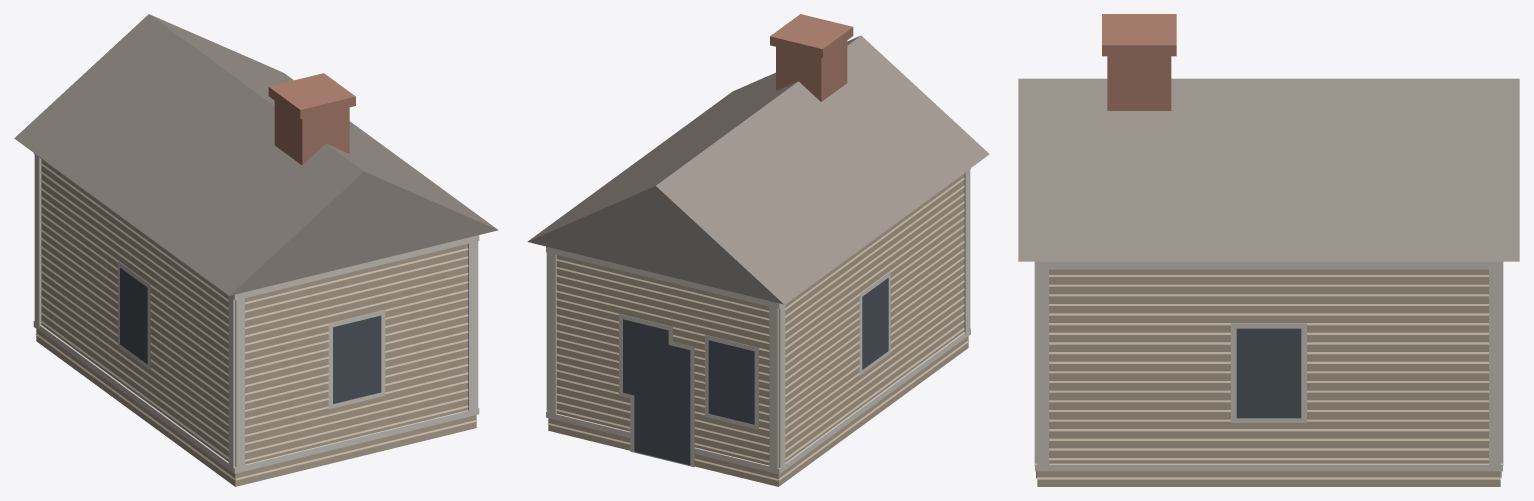
File: inf_barber_shop__inferred_1835.glb
3 renders of one model, left to right at view 1: azimuth 30°, elevation 25°; view 2: azimuth 150°, elevation 25°; view 3: azimuth 270°, elevation 25°, orthographic. The views are drawn at different scales.
Visible parts, largest first — view 1: inf_barber_shop__inferred_1835; view 2: inf_barber_shop__inferred_1835; view 3: inf_barber_shop__inferred_1835.
Boxes of the visible parts, <box> form: inf_barber_shop__inferred_1835: <box>14,14,498,486</box>; inf_barber_shop__inferred_1835: <box>527,14,989,486</box>; inf_barber_shop__inferred_1835: <box>1018,14,1519,486</box>.
Bounding box in the file's own units: 4.77 × 5.65 × 6.6.
